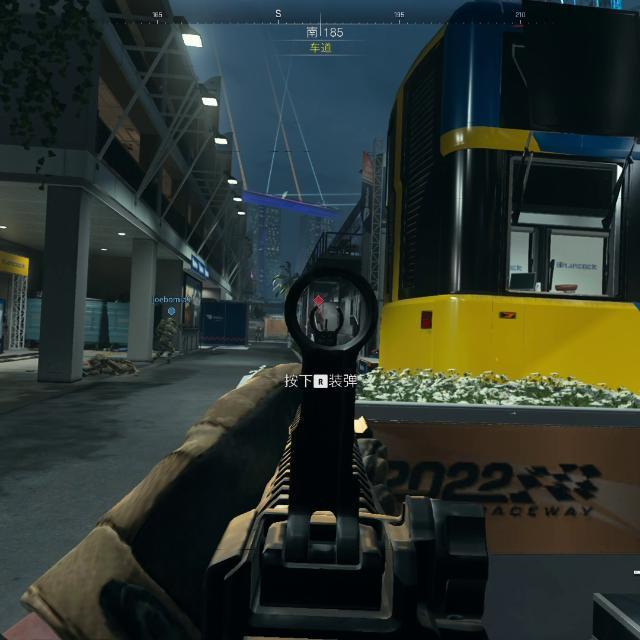MW2_body: (311, 295, 328, 330)
